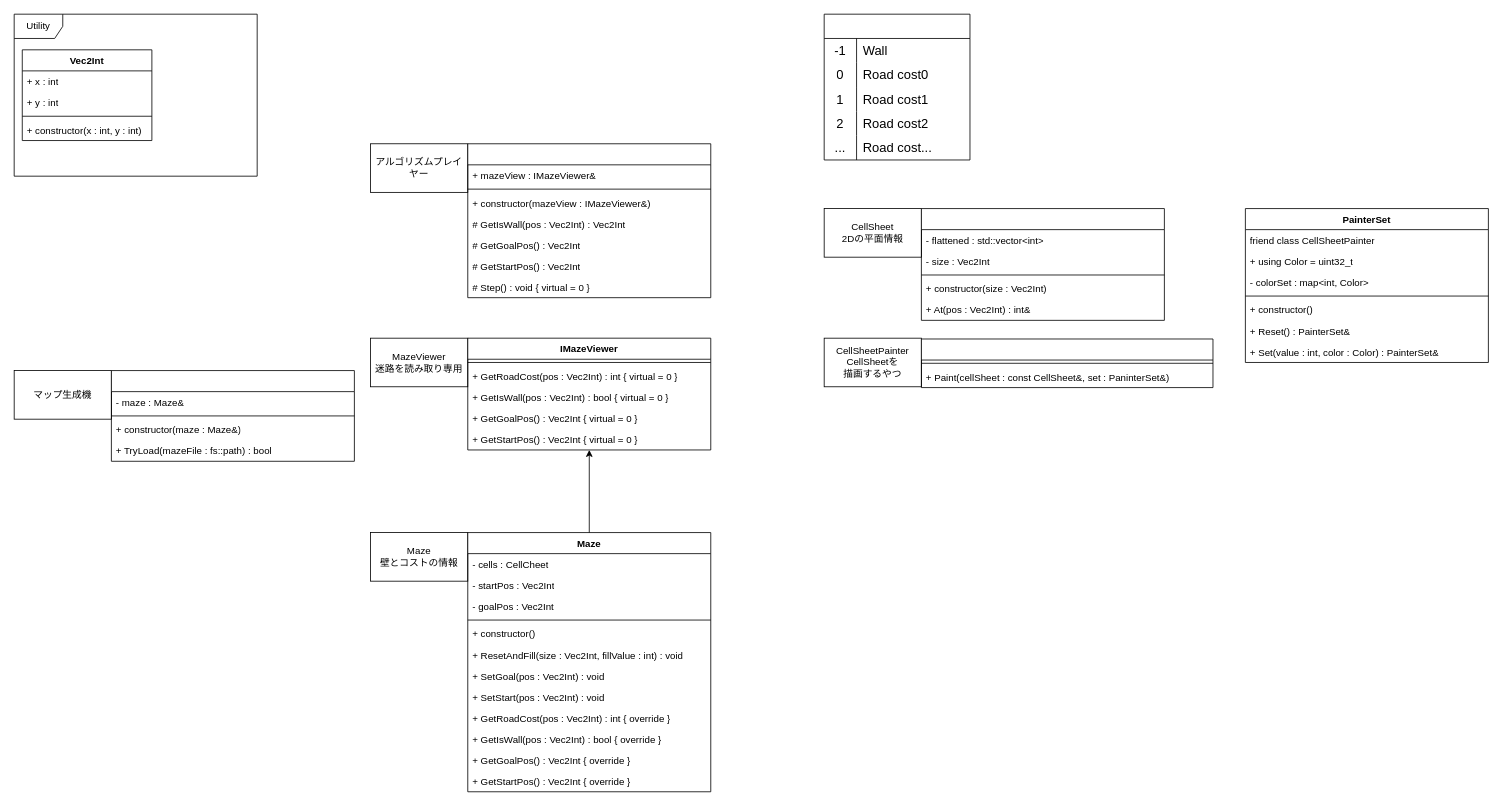
This 1503x808 diagram has some shape labels left out. Here are the shapes that lost their labels. From the top down, the box of each, then its label:
(823, 13, 970, 160): Tile : int
(467, 143, 711, 298): AlgorithmPlayer : + GameObject
(921, 208, 1164, 320): CellSheet
(921, 338, 1213, 388): CellSheetPainter : + GameObject
(111, 370, 354, 461): MazeLoader
